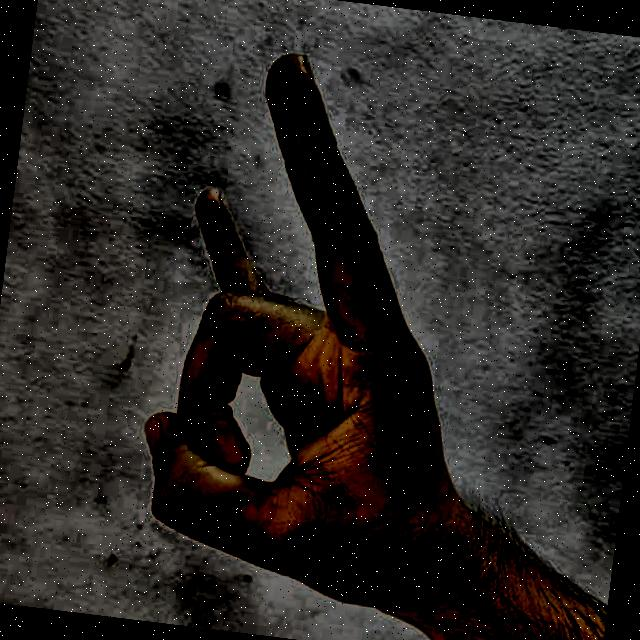Cha: (71, 7, 581, 640)
